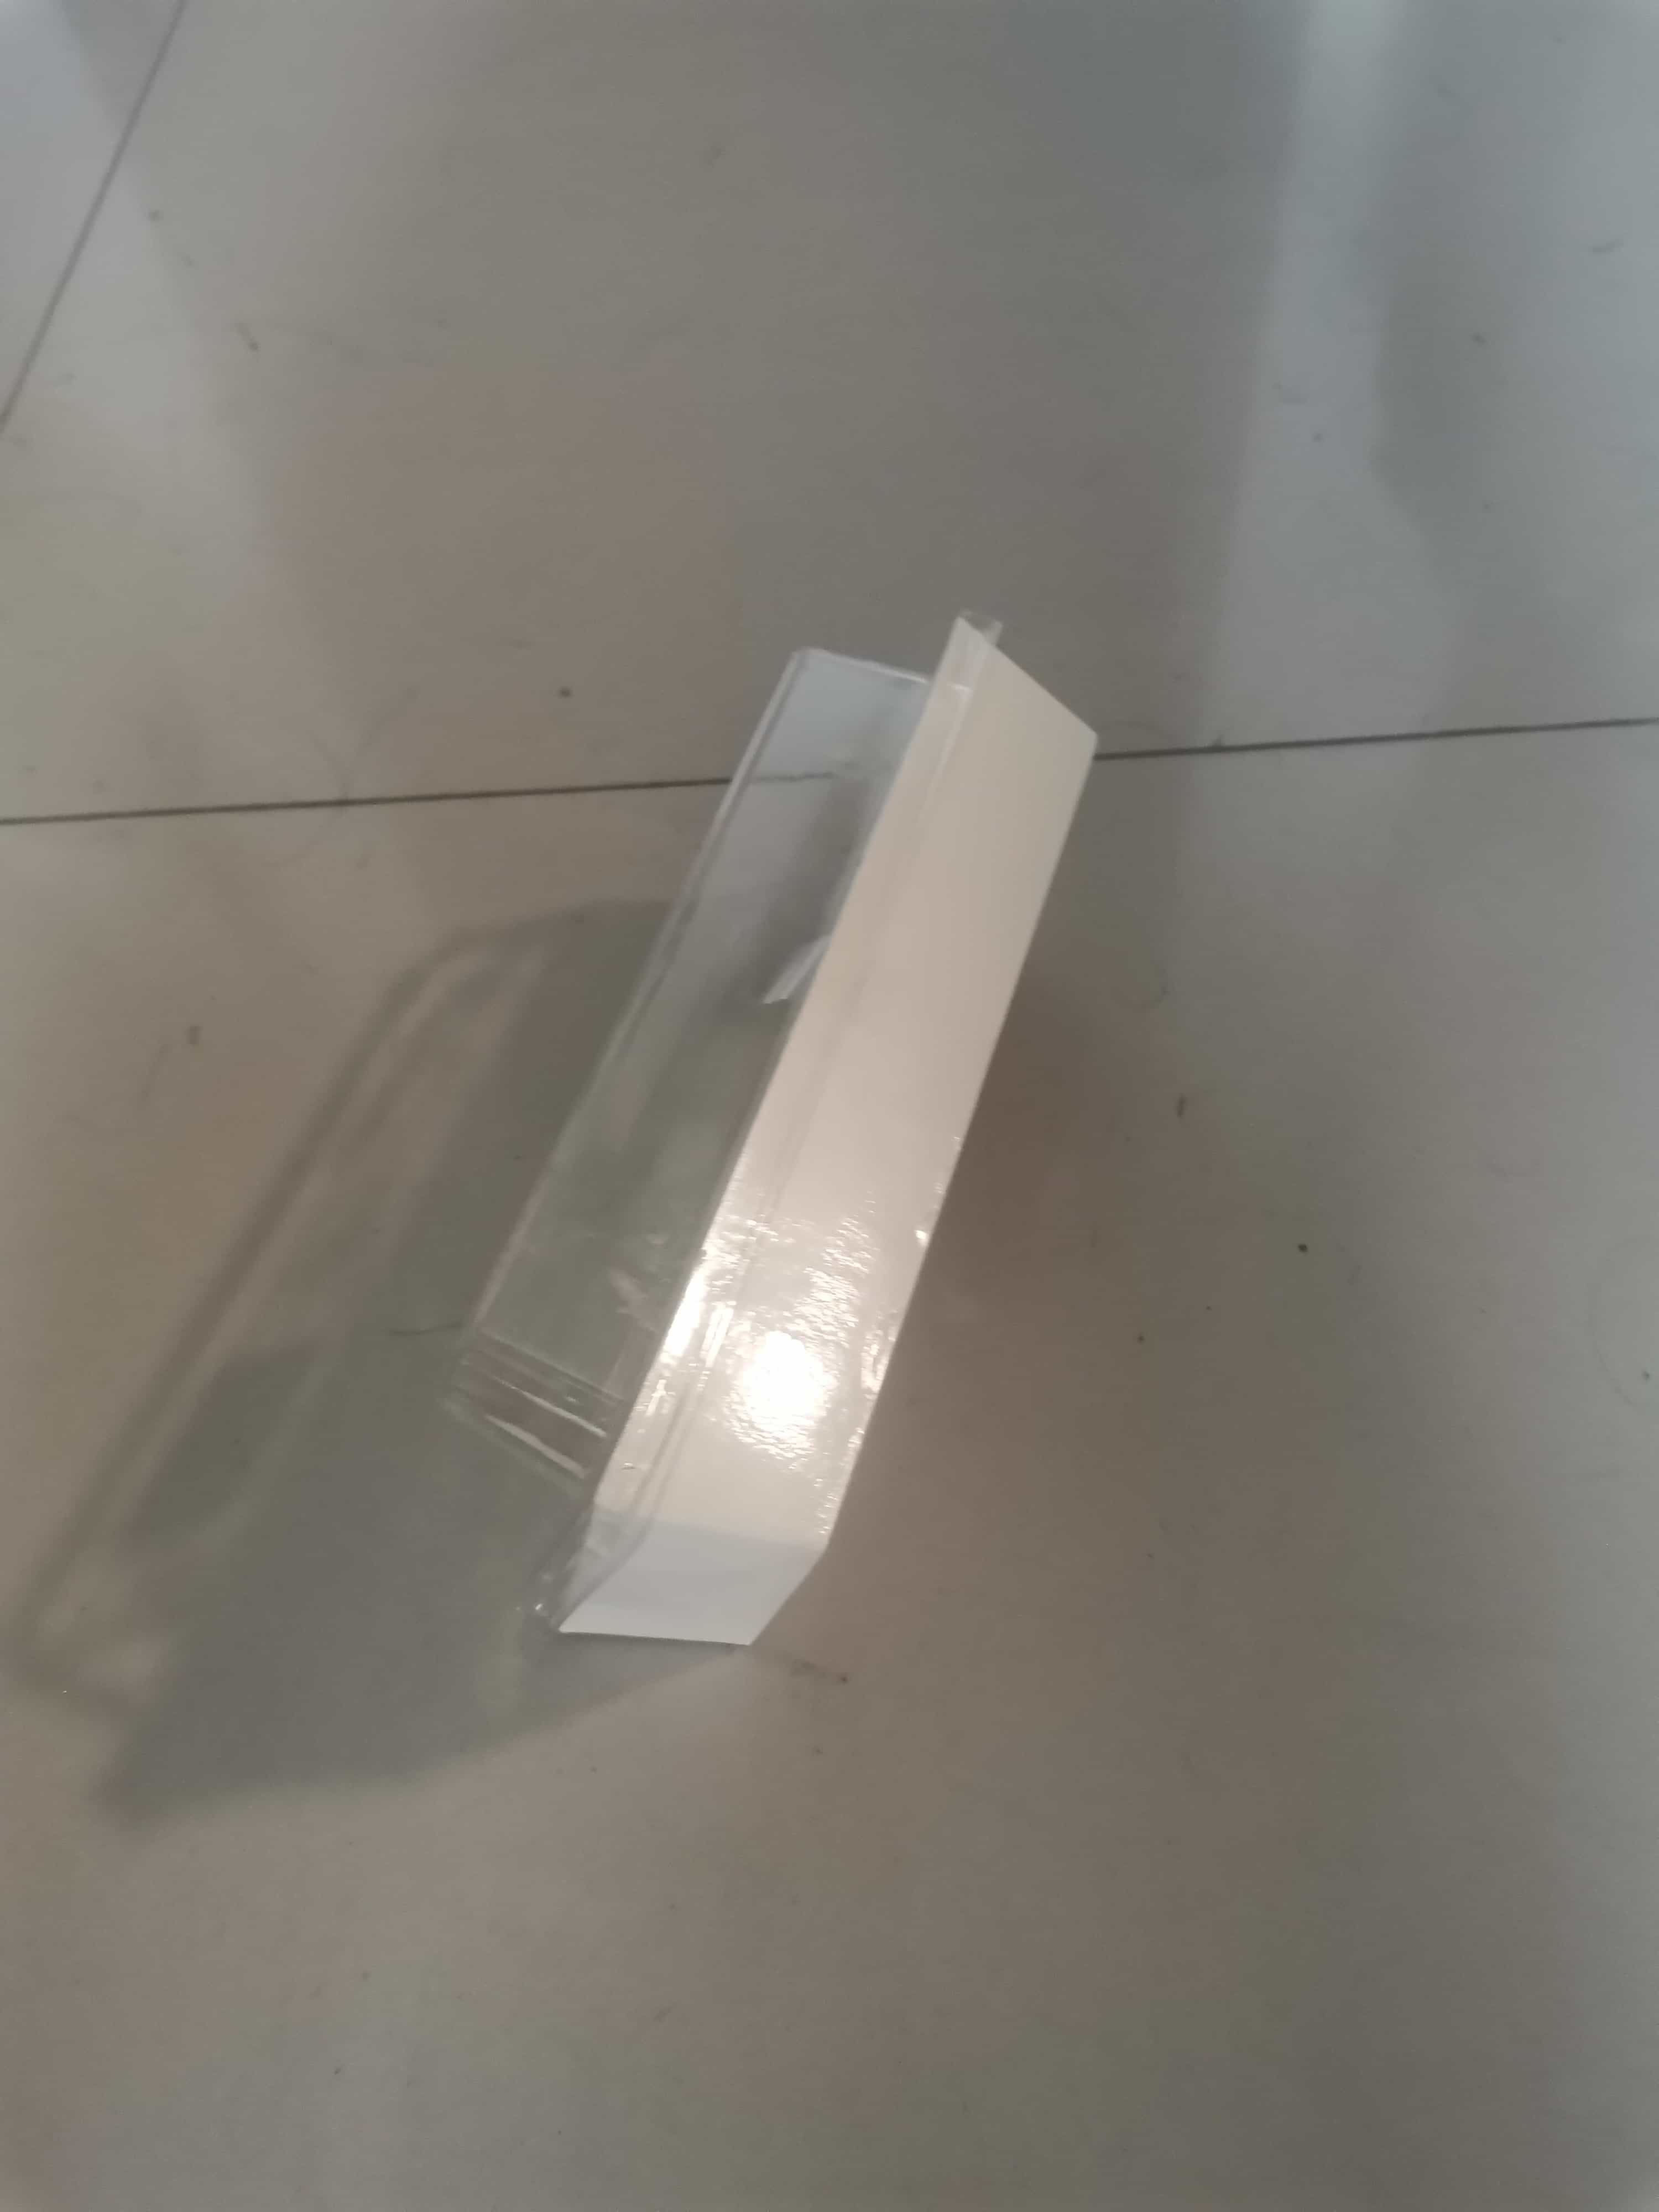cake_box: (423, 592, 1121, 1677)
